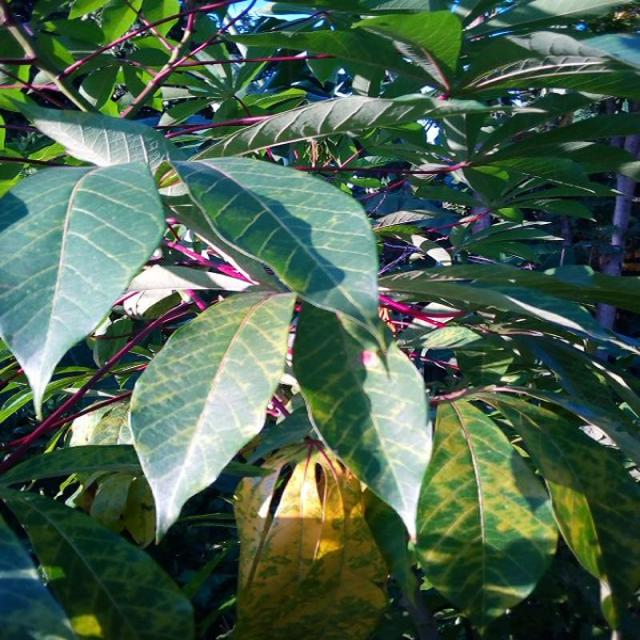cassava leaf: (127, 287, 297, 544), (0, 158, 166, 421), (169, 154, 380, 338), (291, 296, 434, 543), (413, 395, 559, 629), (230, 438, 392, 638)
